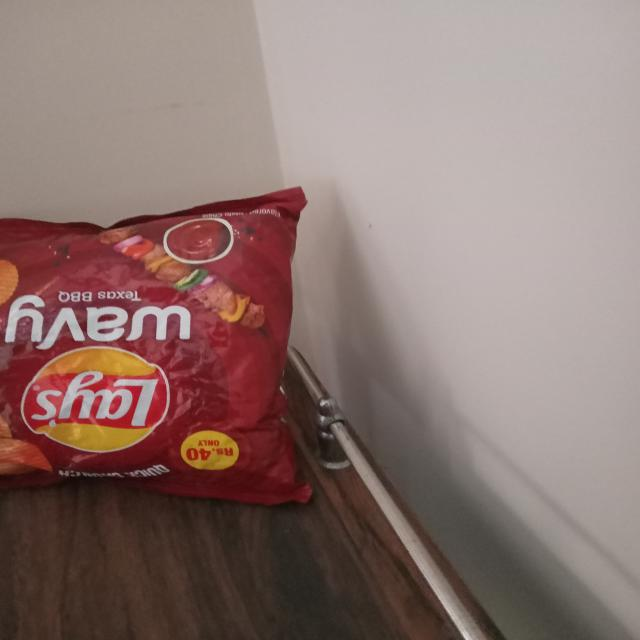Plastic: (0, 181, 332, 513)
